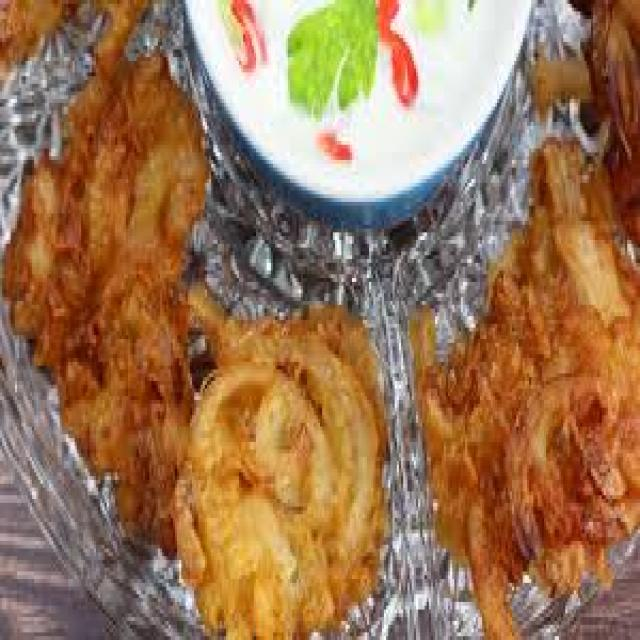BAJI: (5, 10, 207, 565), (415, 142, 638, 618), (180, 304, 384, 633)
